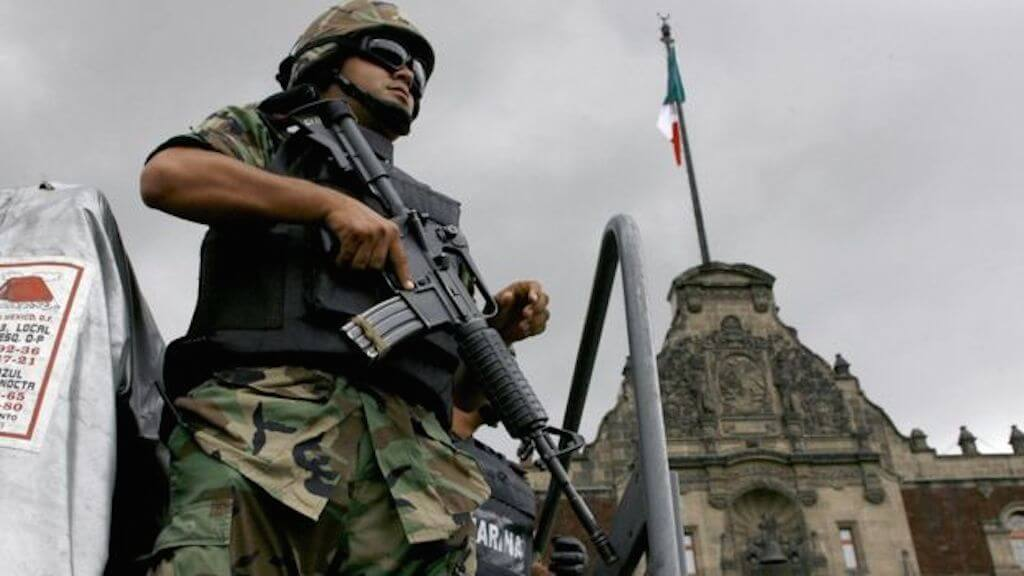Arma Real: (277, 95, 628, 568)
